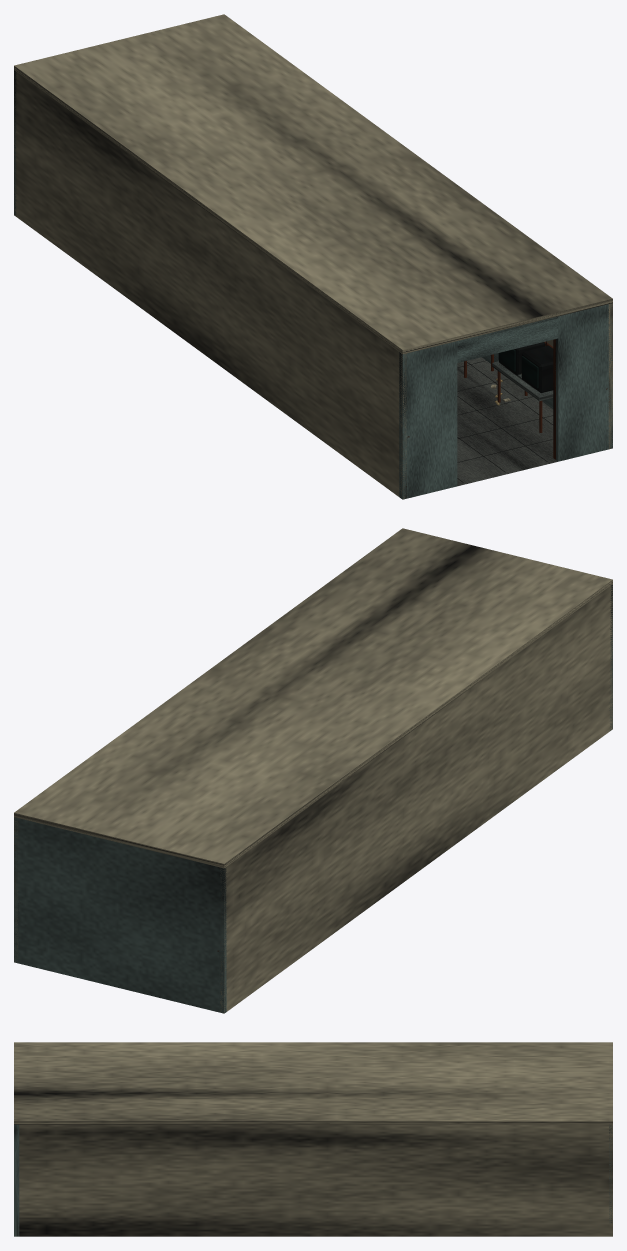
File: security.glb
3 renders of one model, top to bottom at view 1: azimuth 30°, elevation 25°; view 2: azimuth 150°, elevation 25°; view 3: azimuth 270°, elevation 25°, orthographic. The views are drawn at different scales.
Visible parts, largest first — view 1: static-plaster, static-paint, static-stone, static-dark, static-rust, static-screen; view 2: static-plaster, static-paint; view 3: static-plaster, static-paint.
Part boxes in pixels (x1,y1,x2,y2): static-plaster: (14, 14, 612, 499); static-paint: (14, 70, 612, 499); static-stone: (457, 357, 557, 486); static-dark: (457, 342, 553, 482); static-rust: (407, 339, 607, 459); static-screen: (498, 349, 538, 388); static-plaster: (14, 528, 612, 1013); static-paint: (14, 584, 612, 1013); static-plaster: (14, 1042, 612, 1236); static-paint: (14, 1124, 612, 1236).
Size of the model in its own units: 5 by 3.4 by 16.
Materials: 14 (10 with a texture image).
